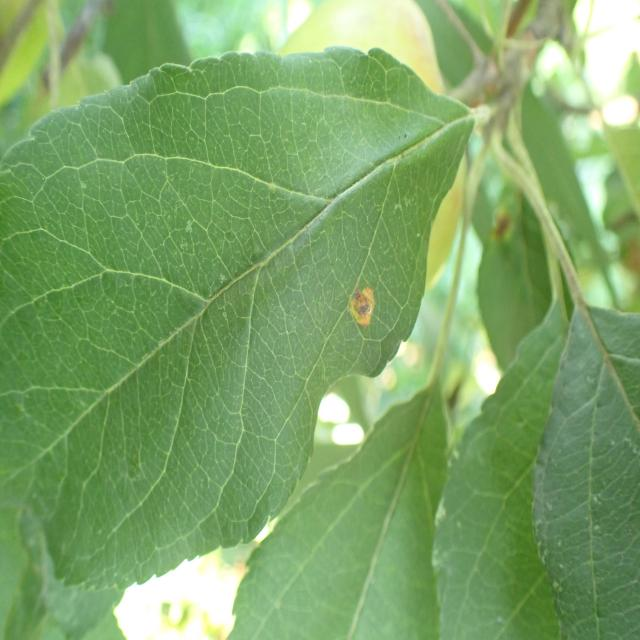Rust: (336, 255, 386, 351), (481, 199, 519, 263)
